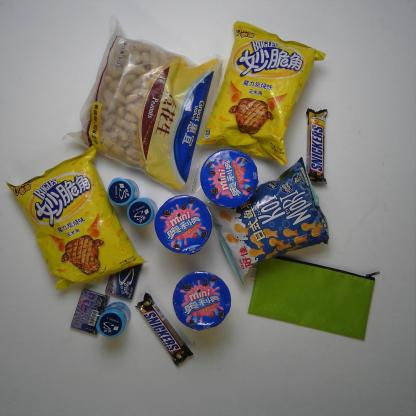Chocolate: (134, 292, 194, 368), (302, 107, 331, 186)
Dessert: (171, 270, 233, 331), (199, 148, 259, 210), (154, 194, 214, 256)
Dried Food: (60, 12, 229, 196)
Gum: (69, 288, 111, 336), (104, 263, 142, 301), (95, 301, 131, 338), (106, 176, 140, 208), (126, 196, 159, 227)
Puffed Food: (5, 143, 148, 294), (195, 19, 328, 168), (204, 155, 330, 286)
Stationery: (245, 255, 380, 342)
